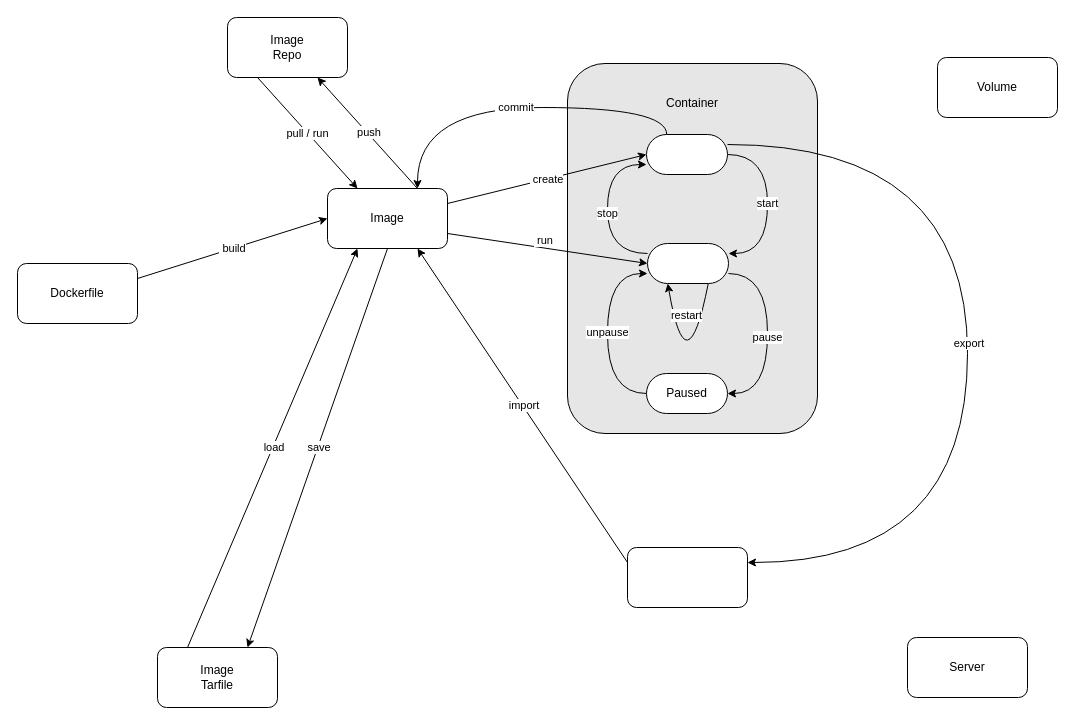
This 1075x725 diagram has some shape labels left out. Here are the shapes that lost their labels. From the top down, the centre of each, then its label:
At point 687,154: "Stopped".
At point 687,263: "Running".
At point 687,577: "Filesystem Tarfile".
